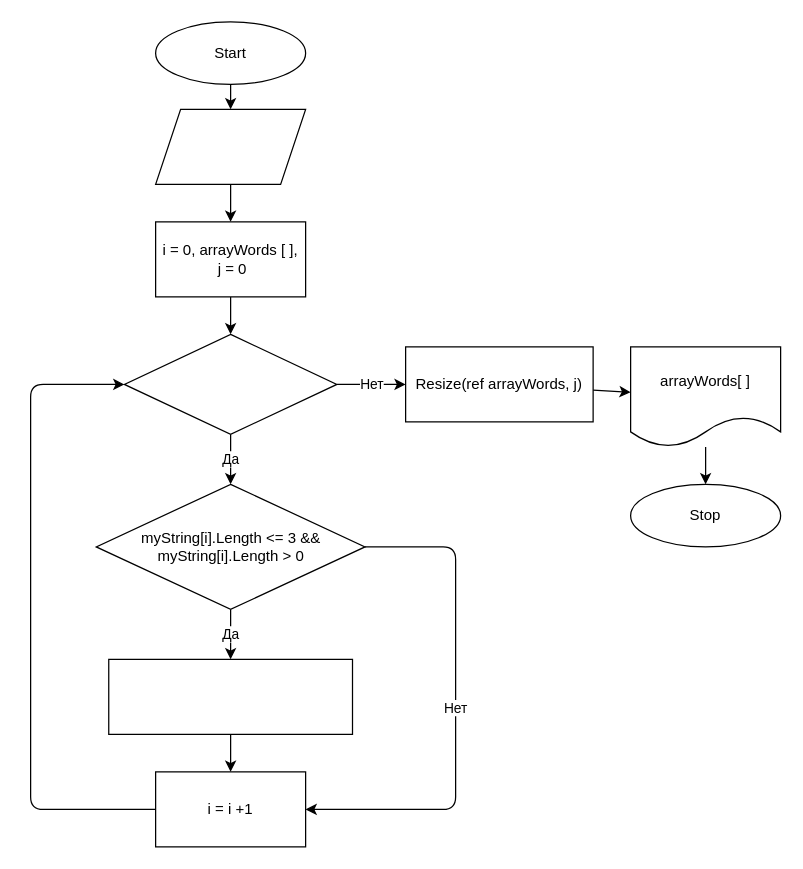
This 803x869 diagram has some shape labels left out. Each missing label, with the centre of its shape:
"arrayWords[j] = myString[i]; j = j + 1" belongs at point (230, 696).
"i < myString.Length" belongs at point (230, 383).
"myString[ ]" belongs at point (230, 146).
